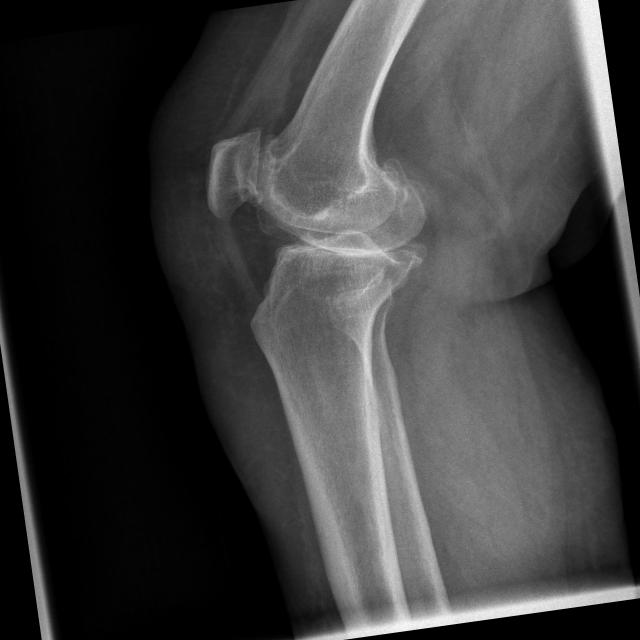Knee: (193, 97, 446, 371)
